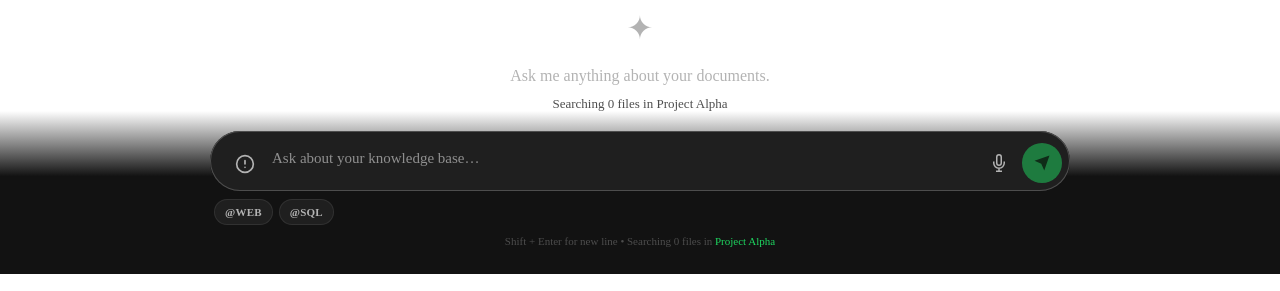
Test: ChatView — tag shortcut buttons › prepends the tag to an empty composer
The width and height of the screenshot is (1280, 291).
Click the button "@WEB". click: (243, 212)
box: [214, 198, 273, 225]
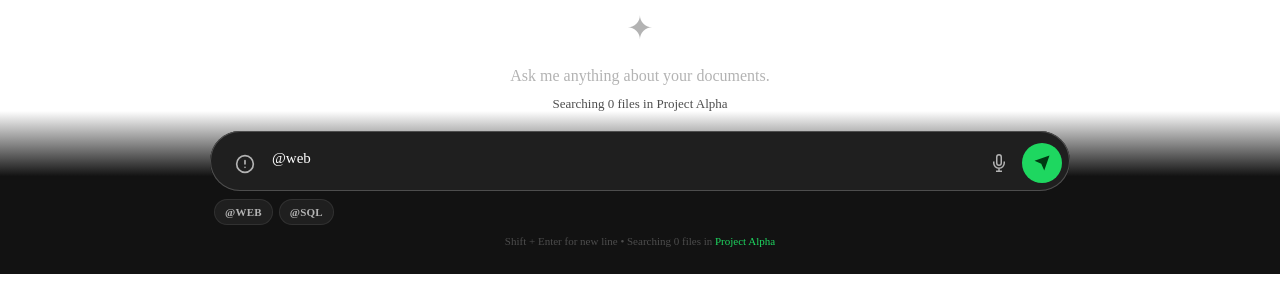
Check: the text box with placeholder "Ask about your knowledge base…" holds "@web ", box [272, 138, 974, 182]
